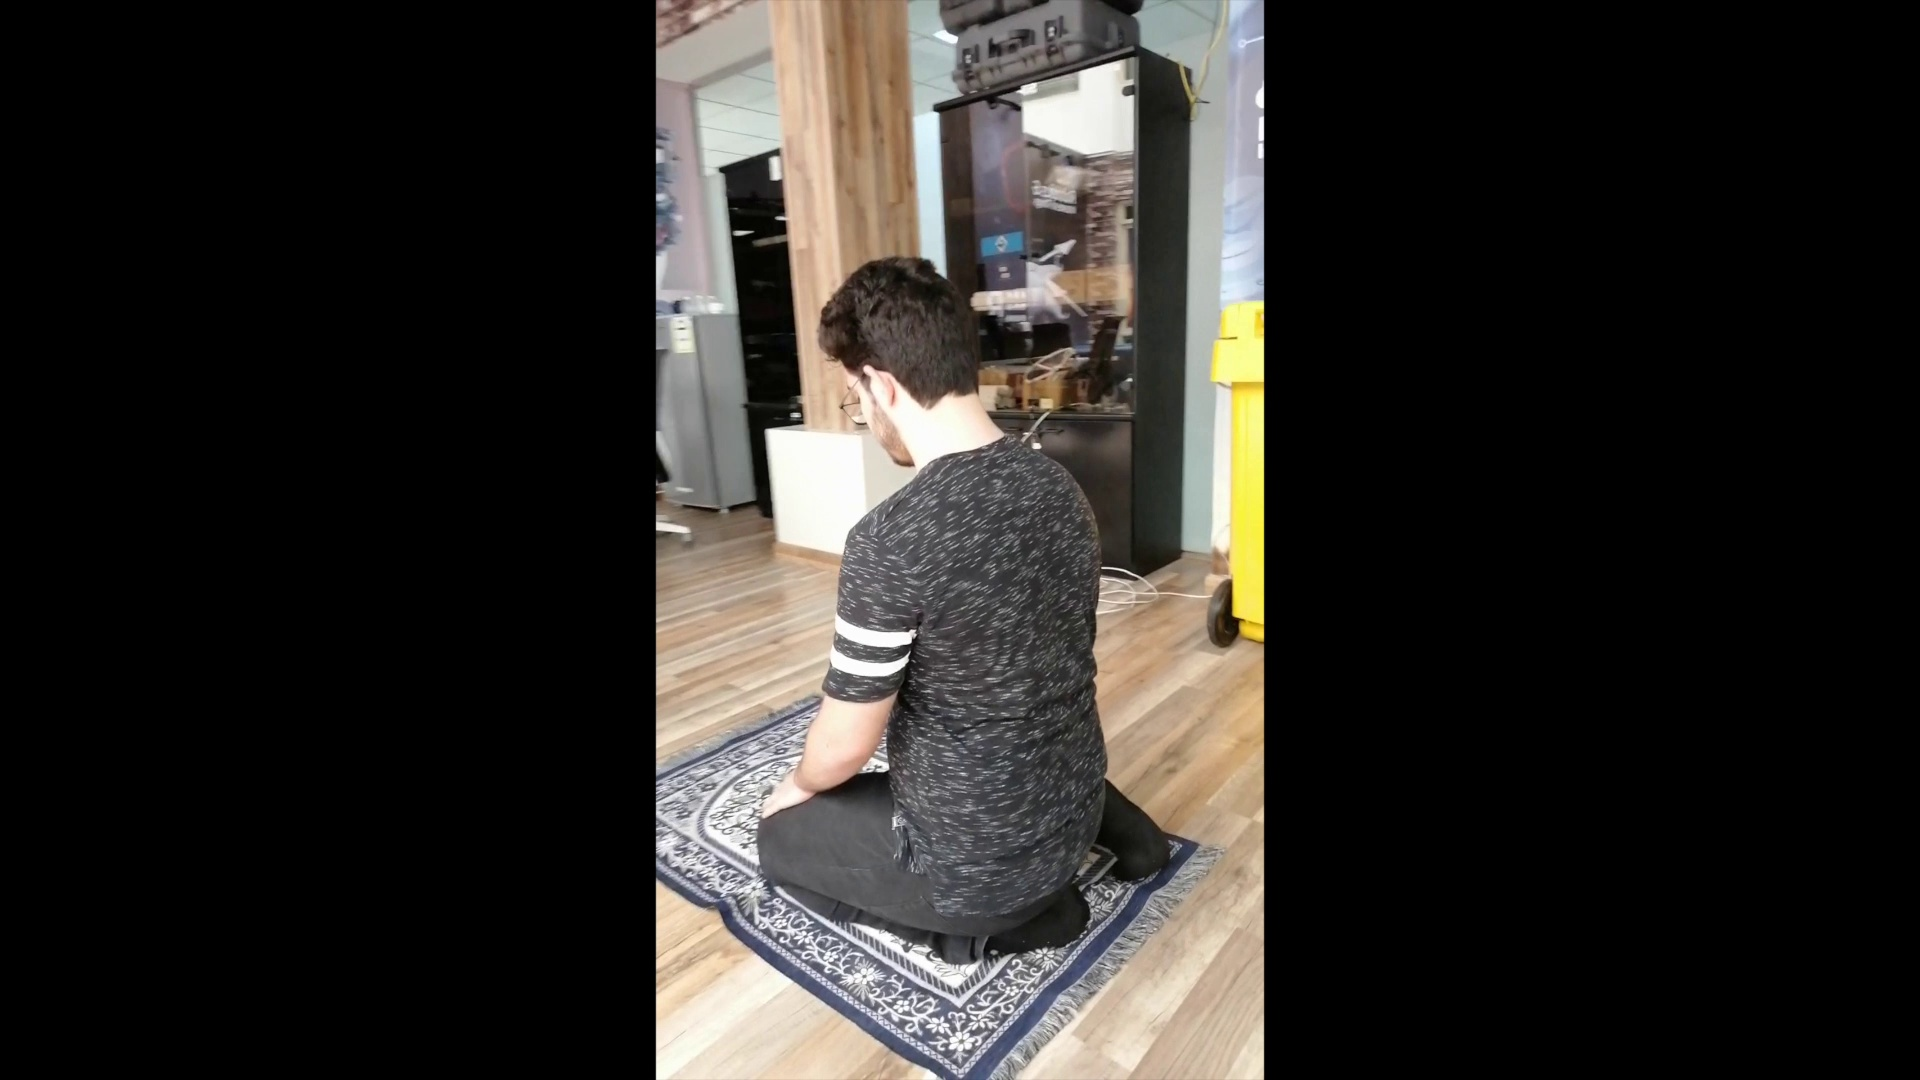sitting: (742, 248, 1180, 969)
